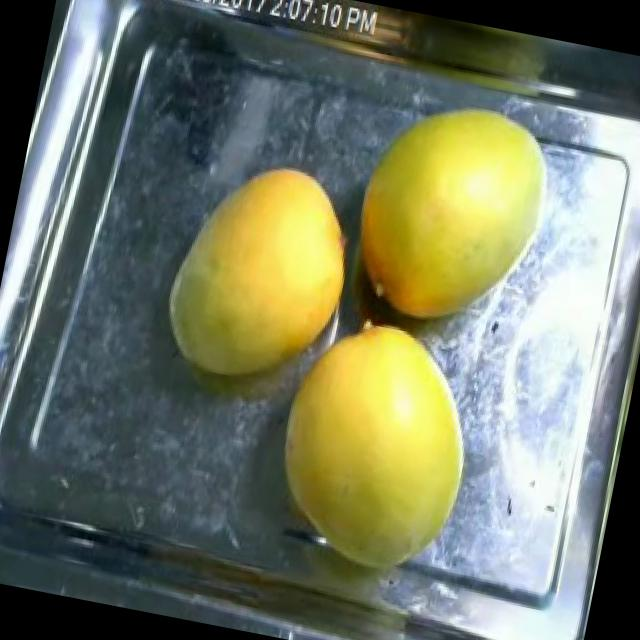fruit: (246, 295, 504, 599), (140, 140, 380, 412), (330, 83, 568, 349)
